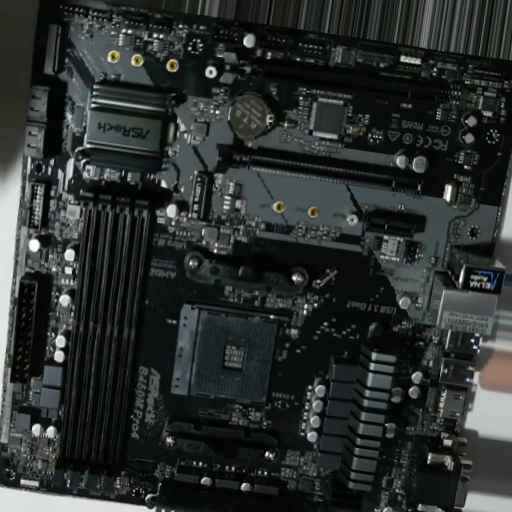CPU: (189, 304, 277, 409)
GPU: (219, 51, 439, 108), (214, 143, 425, 200)
MOTHERBOARD: (7, 12, 506, 512)
RAM: (56, 191, 155, 475)
SSD: (42, 23, 63, 75), (188, 173, 207, 217)
